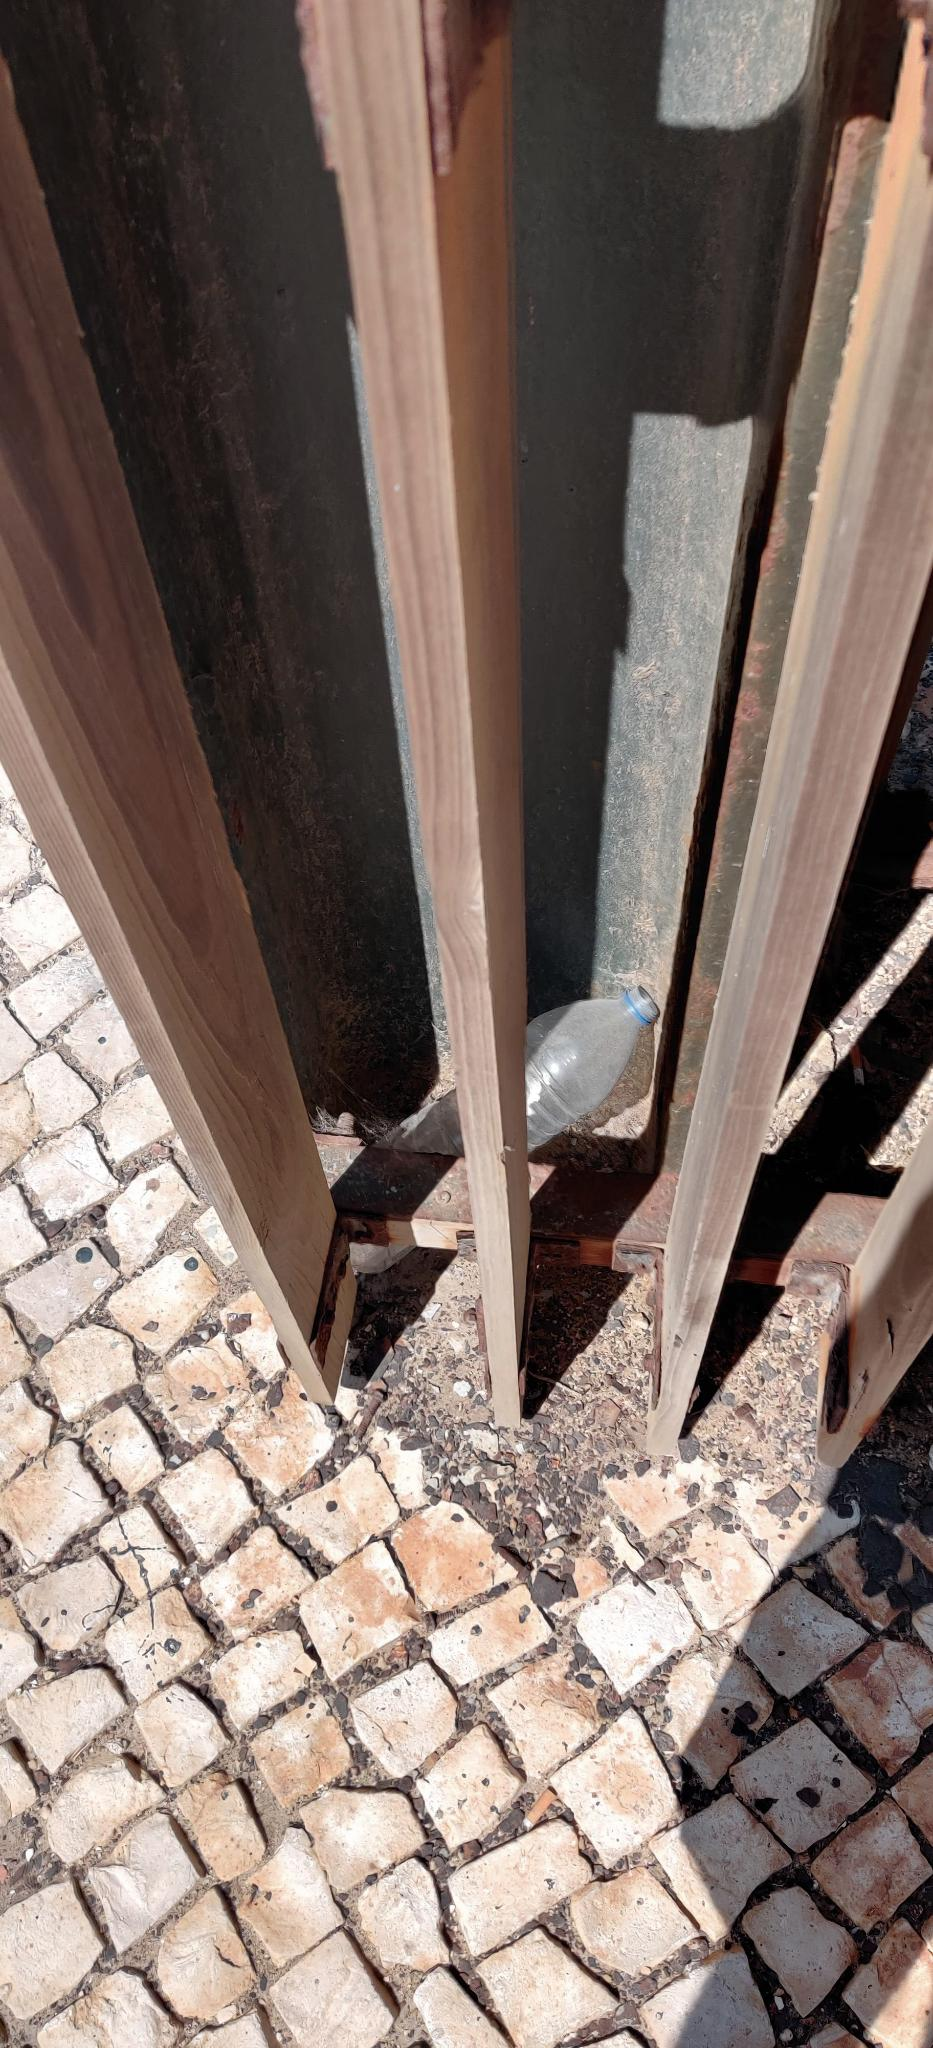Plastic: (323, 973, 661, 1187)
